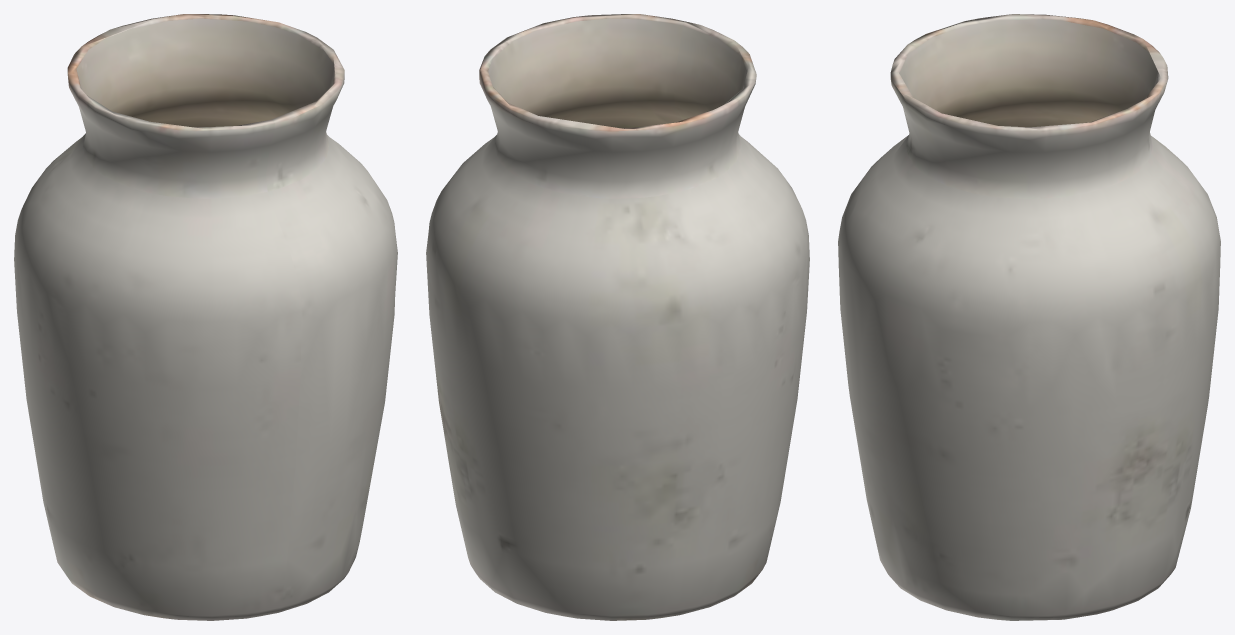
The model's file is ceramic_vase_02.glb.
The picture shows the model from 3 angles, left to right: view 1: azimuth 30°, elevation 25°; view 2: azimuth 150°, elevation 25°; view 3: azimuth 270°, elevation 25°; orthographic projection.
Visible parts, largest first — view 1: ceramic_vase_02; view 2: ceramic_vase_02; view 3: ceramic_vase_02.
Part boxes in pixels (x1,y1,x2,y2): ceramic_vase_02: [14, 14, 397, 620]; ceramic_vase_02: [426, 14, 809, 620]; ceramic_vase_02: [838, 14, 1220, 620].
Size of the model in its own units: 0.218 by 0.3091 by 0.2176.
Materials: 1 (1 with a texture image).
